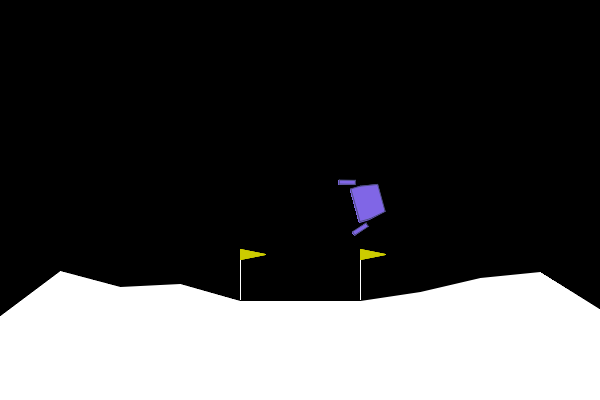lander: (336, 169, 391, 237)
